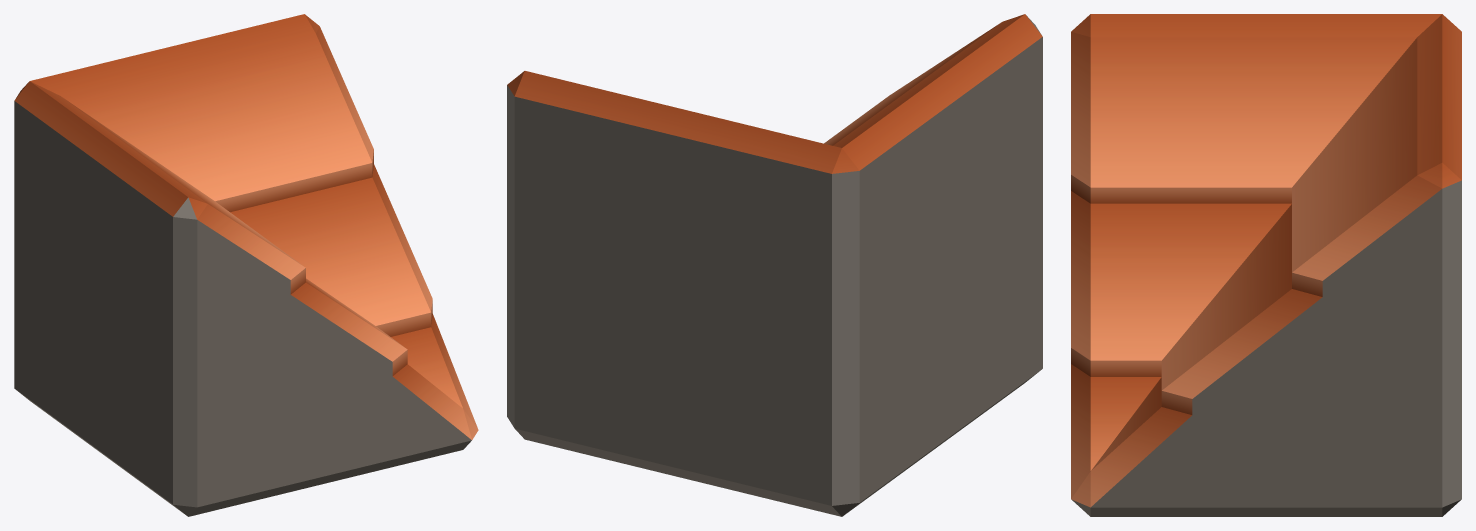
The model's file is m_kub_roofClay_cornerIn.FBX.
The picture shows the model from 3 angles, left to right: view 1: azimuth 30°, elevation 25°; view 2: azimuth 150°, elevation 25°; view 3: azimuth 270°, elevation 25°; orthographic projection. The views are drawn at different scales.
Parts seen in each view (by area): view 1: m_kub_roofClay_cornerIn; view 2: m_kub_roofClay_cornerIn; view 3: m_kub_roofClay_cornerIn.
Boxes of the visible parts, <box> form: m_kub_roofClay_cornerIn: <box>14,14,478,516</box>; m_kub_roofClay_cornerIn: <box>507,14,1042,516</box>; m_kub_roofClay_cornerIn: <box>1071,14,1461,516</box>.
Bounding box in the file's own units: 2 × 2 × 2.
